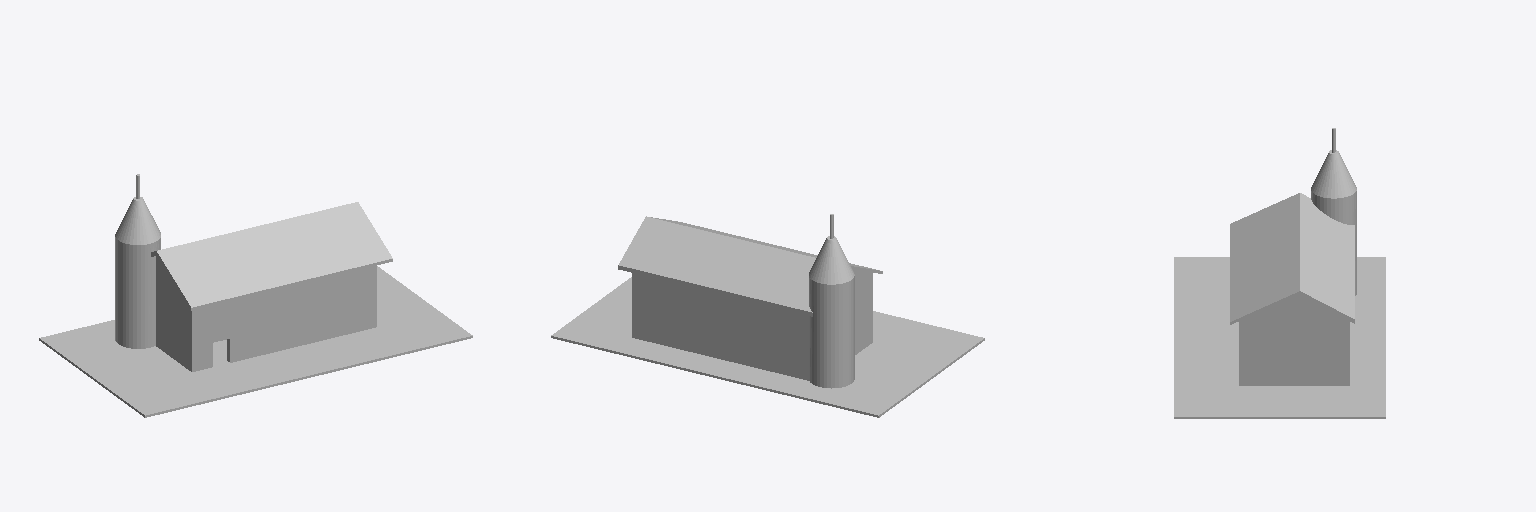
The model's file is haus.obj.
3 views of the same model, side by side, from view 1: azimuth 30°, elevation 25°; view 2: azimuth 150°, elevation 25°; view 3: azimuth 270°, elevation 25° (orthographic).
Size of the model in its own units: 146 by 71 by 81.95.